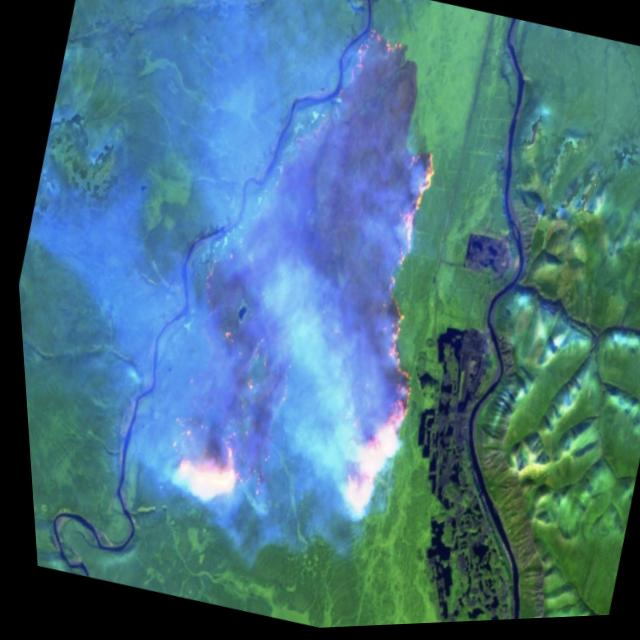fire: (113, 0, 507, 559)
